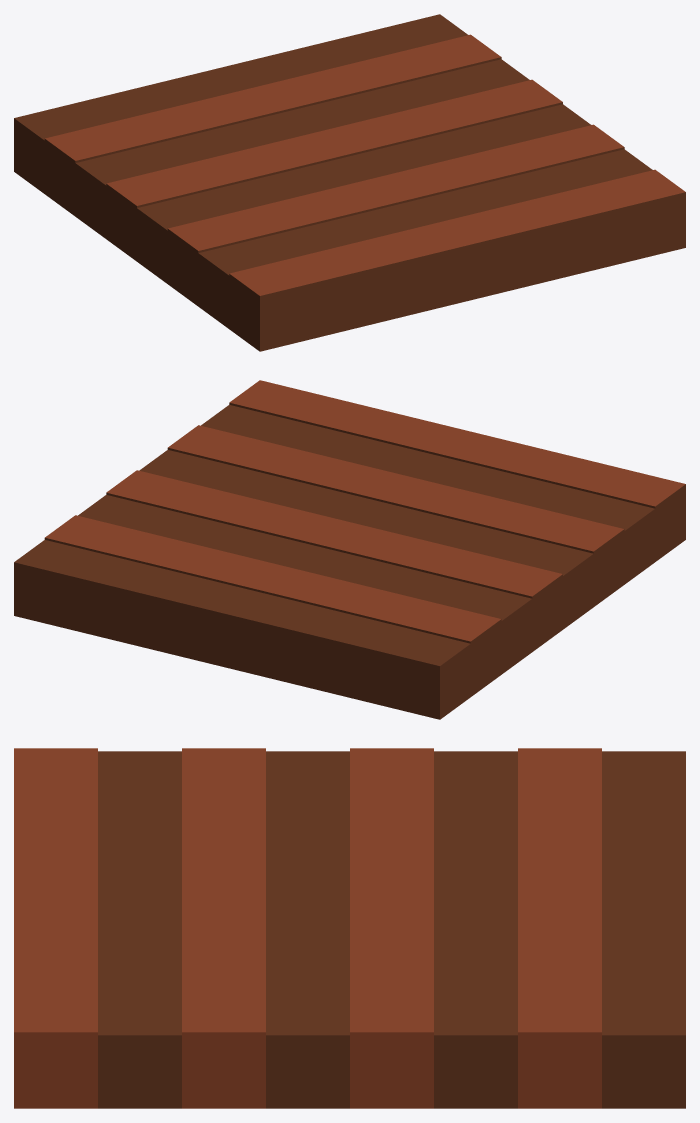
Rendered from floor01.fbx.
3 views of the same model, one above another, from view 1: azimuth 30°, elevation 25°; view 2: azimuth 150°, elevation 25°; view 3: azimuth 270°, elevation 25° (orthographic). The views are drawn at different scales.
Parts seen in each view (by area): view 1: Cube.005; view 2: Cube.005; view 3: Cube.005.
Part boxes in pixels (x1,y1,x2,y2): Cube.005: (14,14,685,351); Cube.005: (14,380,685,719); Cube.005: (14,748,685,1108).
Size of the model in its own units: 400 by 50 by 400.
